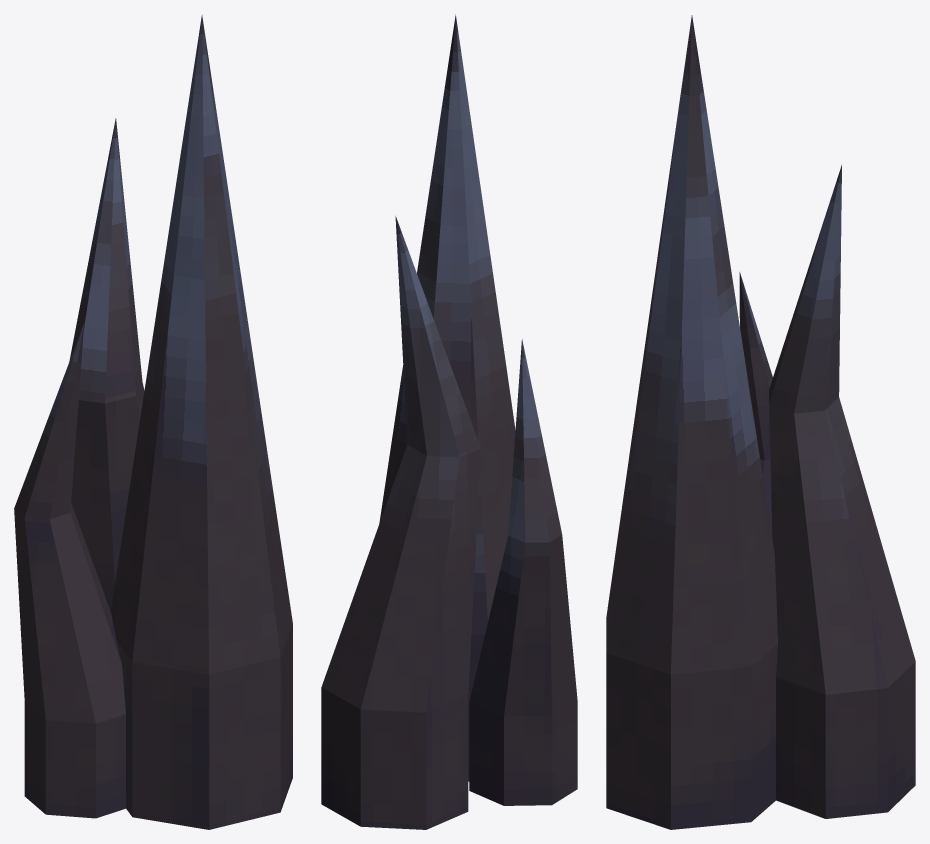
File: Roots1.gltf
3 renders of one model, left to right at view 1: azimuth 30°, elevation 25°; view 2: azimuth 150°, elevation 25°; view 3: azimuth 270°, elevation 25°, orthographic. The views are drawn at different scales.
Visible parts, largest first — view 1: cylinder (×3); view 2: cylinder (×3); view 3: cylinder (×3).
Boxes of the visible parts, x1,y1,x2,y2 form: cylinder (×3): (14, 15, 292, 829); cylinder (×3): (321, 14, 577, 829); cylinder (×3): (606, 15, 915, 829).
Size of the model in its own units: 0.1899 by 0.625 by 0.2256.
1 material, 1 textured.
